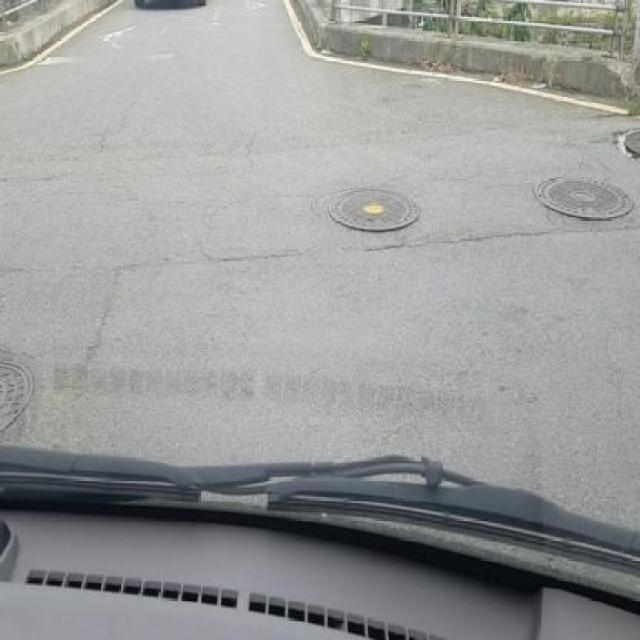Manhole: (529, 176, 640, 222), (324, 185, 427, 232), (0, 358, 35, 441), (614, 121, 638, 164)
